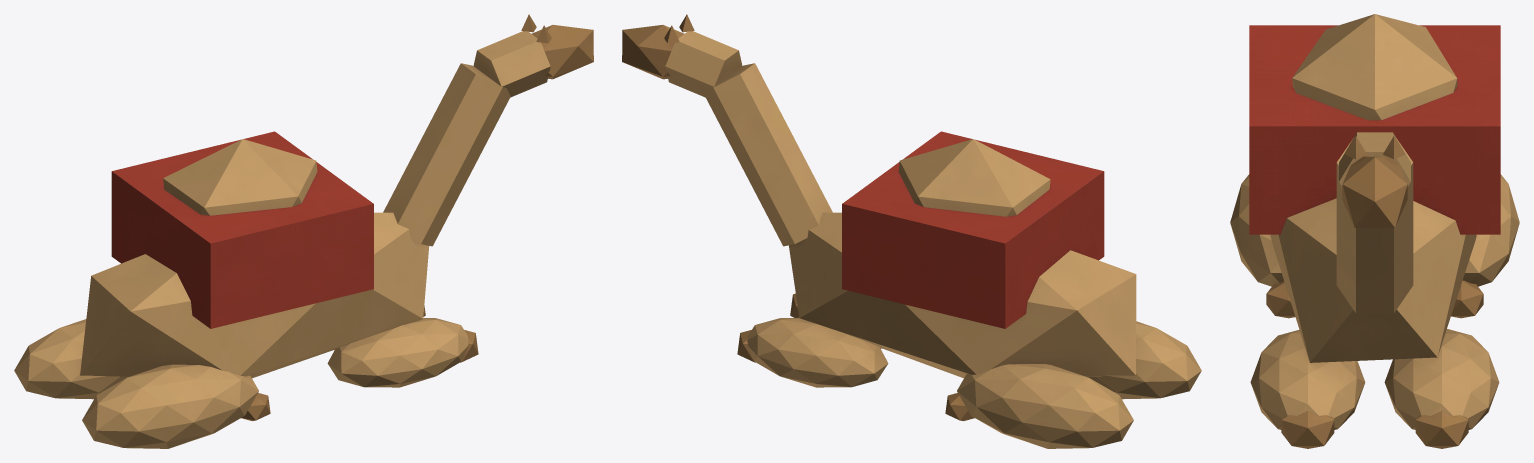
The model's file is kamel_ligg_tex.glb.
The picture shows the model from 3 angles, left to right: view 1: azimuth 30°, elevation 25°; view 2: azimuth 150°, elevation 25°; view 3: azimuth 270°, elevation 25°; orthographic projection. The views are drawn at different scales.
Parts seen in each view (by area): view 1: kamel_ligg; view 2: kamel_ligg; view 3: kamel_ligg.
Part boxes in pixels (x1=…): kamel_ligg: x1=14, y1=14, x2=593, y2=448; kamel_ligg: x1=622, y1=14, x2=1201, y2=448; kamel_ligg: x1=1230, y1=14, x2=1519, y2=448.
Size of the model in its own units: 3.3 by 1.77 by 1.21.
3 materials, 3 textured.
